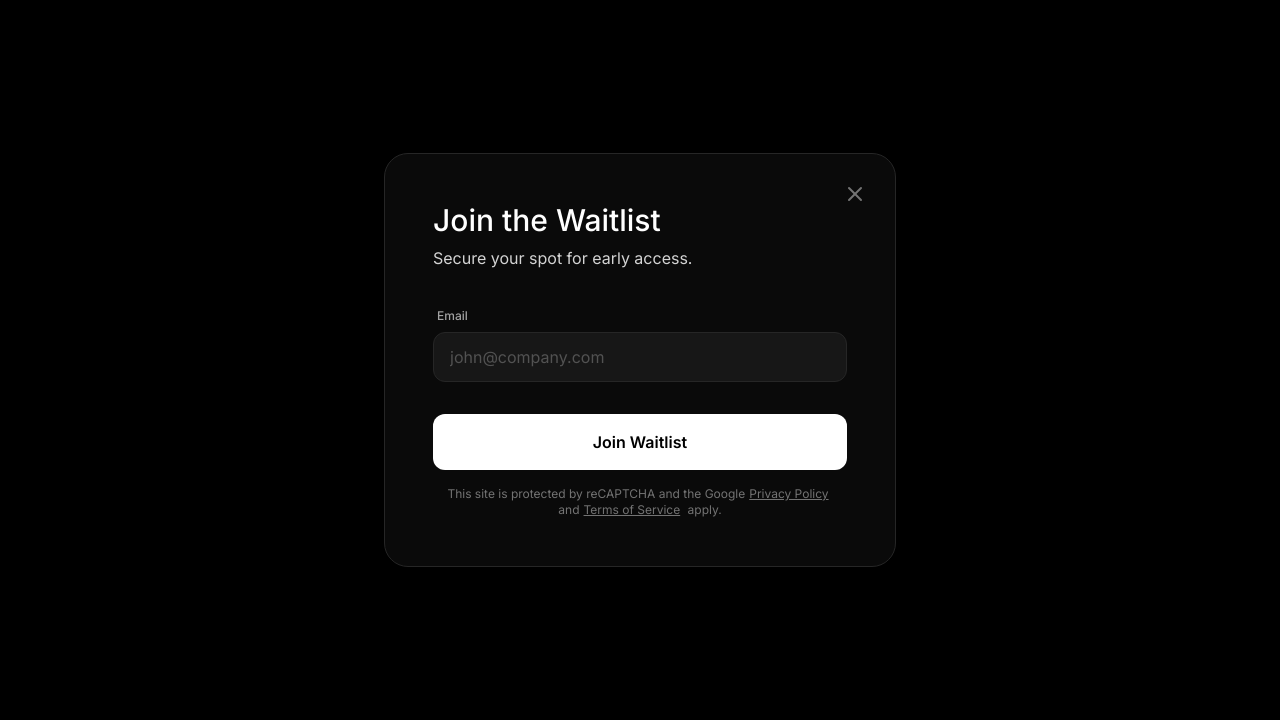
Form Validation Tests › reCAPTCHA Tests › TC-RECAP-003: Verify form submission fails if reCAPTCHA doesn't load › should handle reCAPTCHA not loaded
In the field labelled "Email": (640, 357) 433,332 -> 847,382, type "test@example.com"
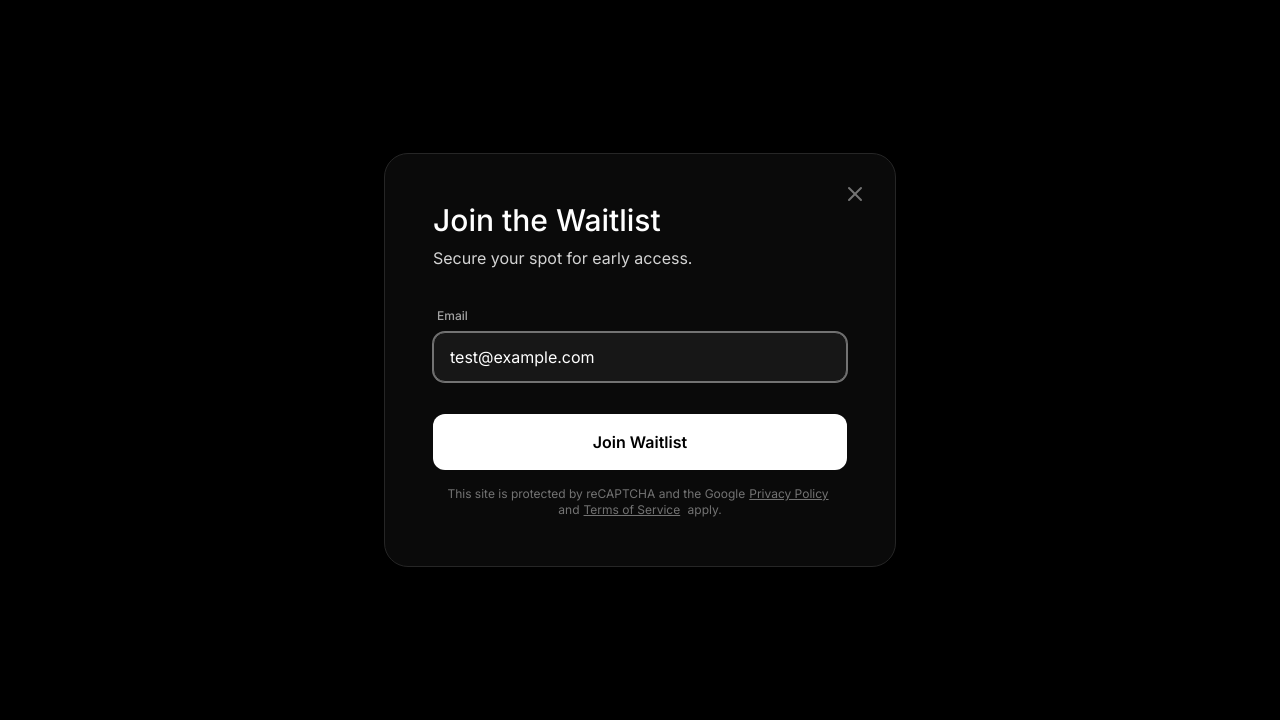
Click the button "Join Waitlist": (640, 442) 433,414 -> 847,470
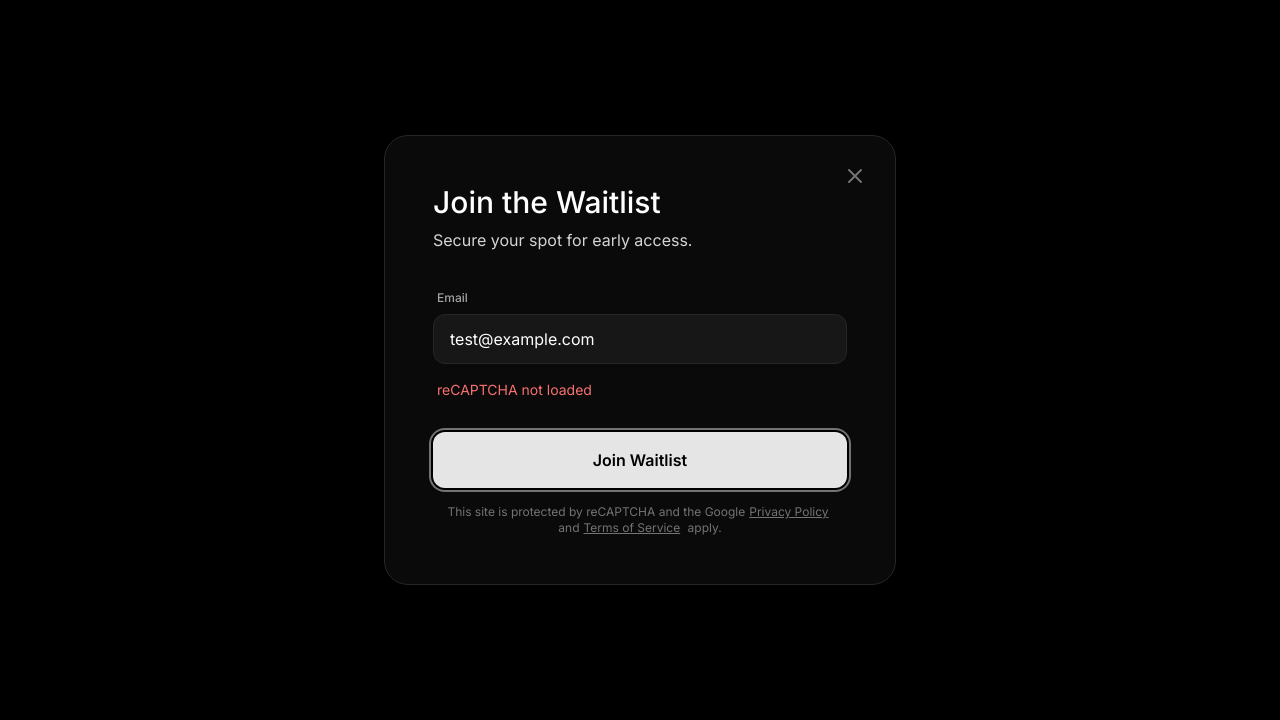
Check: the text "reCAPTCHA not loaded" is shown, box 437,381 -> 592,398
